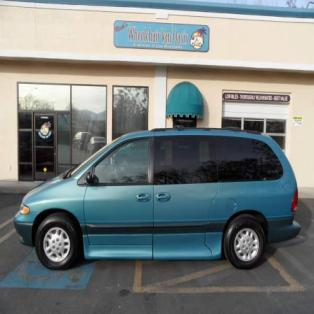Auto: (13, 126, 303, 272)
